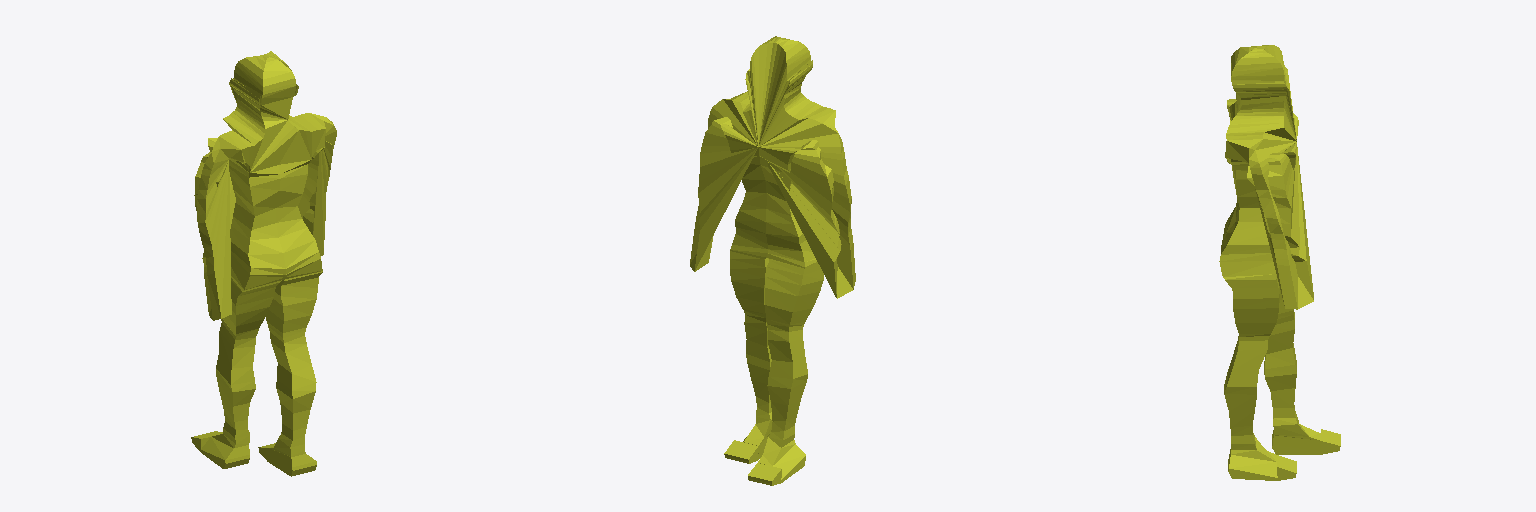
File: woman_000006.obj
The picture shows the model from 3 angles: view 1: azimuth 30°, elevation 25°; view 2: azimuth 150°, elevation 25°; view 3: azimuth 270°, elevation 25°; orthographic projection.
Parts seen in each view (by area): view 1: Cube_Cube.001; view 2: Cube_Cube.001; view 3: Cube_Cube.001.
Part boxes in pixels (left/top/right/bottom): Cube_Cube.001: left=191, top=51, right=336, bottom=476; Cube_Cube.001: left=690, top=36, right=855, bottom=485; Cube_Cube.001: left=1219, top=45, right=1340, bottom=480.
Size of the model in its own units: 3.52 by 9.95 by 2.63.